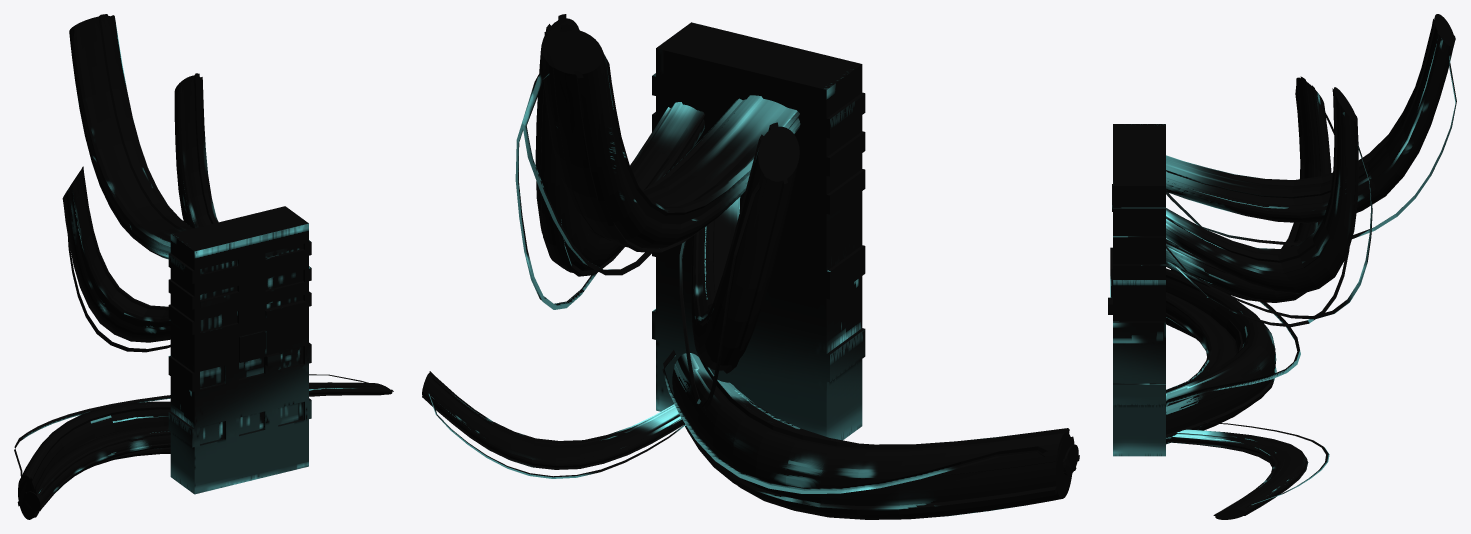
The model's file is computer thingy.fbx.
3 renders of one model, left to right at view 1: azimuth 30°, elevation 25°; view 2: azimuth 150°, elevation 25°; view 3: azimuth 270°, elevation 25°, orthographic. The views are drawn at different scales.
Parts seen in each view (by area): view 1: Cube, Cylinder.002, Cylinder.004, Cylinder, Cylinder.003, Cylinder.001, Cylinder.005; view 2: Cube, Cylinder, Cylinder.002, Cylinder.004, Cylinder.003, Cylinder.005, Cylinder.001; view 3: Cube, Cylinder.002, Cylinder.003, Cylinder, Cylinder.004, Cylinder.005, Cylinder.001.
Boxes of the visible parts, x1=… form: Cube: x1=168, y1=206, x2=311, y2=494; Cylinder.002: x1=69, y1=14, x2=193, y2=259; Cylinder.004: x1=62, y1=166, x2=170, y2=352; Cylinder: x1=14, y1=395, x2=170, y2=519; Cylinder.003: x1=174, y1=73, x2=218, y2=228; Cylinder.001: x1=25, y1=425, x2=170, y2=512; Cylinder.005: x1=309, y1=374, x2=393, y2=396; Cube: x1=652, y1=22, x2=865, y2=440; Cylinder: x1=662, y1=350, x2=1074, y2=519; Cylinder.002: x1=522, y1=24, x2=800, y2=275; Cylinder.004: x1=679, y1=122, x2=799, y2=409; Cylinder.003: x1=515, y1=14, x2=704, y2=309; Cylinder.005: x1=422, y1=371, x2=685, y2=478; Cylinder.001: x1=717, y1=380, x2=1079, y2=475; Cube: x1=1108, y1=124, x2=1165, y2=456; Cylinder.002: x1=1166, y1=14, x2=1456, y2=245; Cylinder.003: x1=1166, y1=87, x2=1372, y2=319; Cylinder: x1=1166, y1=268, x2=1300, y2=444; Cylinder.004: x1=1166, y1=76, x2=1349, y2=326; Cylinder.005: x1=1167, y1=422, x2=1329, y2=519; Cylinder.001: x1=1166, y1=292, x2=1237, y2=380.
Bounding box in the file's own units: 1930 × 1693 × 1318.
